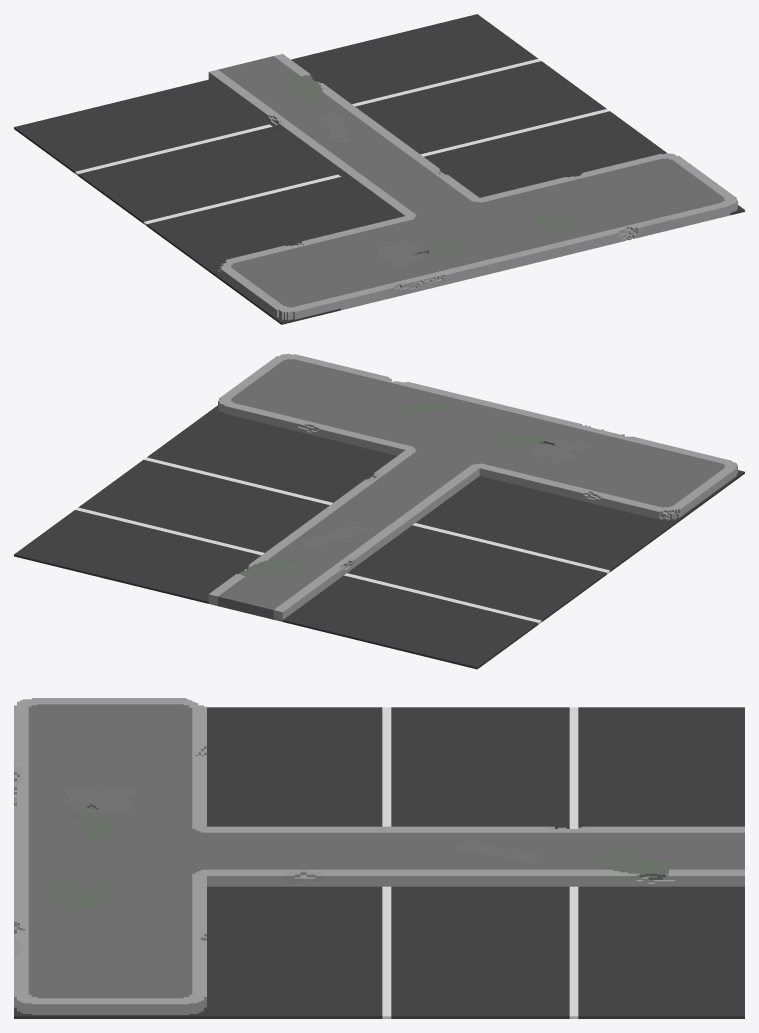
File: parking_edge_v2.vox.obj
The picture shows the model from 3 angles, top to bottom: view 1: azimuth 30°, elevation 25°; view 2: azimuth 150°, elevation 25°; view 3: azimuth 270°, elevation 25°; orthographic projection. The views are drawn at different scales.
Bounding box in the file's own units: 25 × 0.5 × 25.
Materials: 1 (1 with a texture image).
